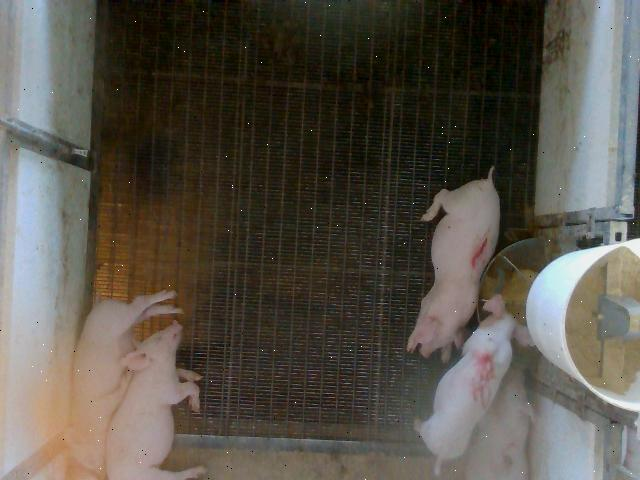pig-1: (408, 168, 500, 362)
pig-3: (466, 366, 534, 478)
pig-5: (416, 295, 531, 472)
